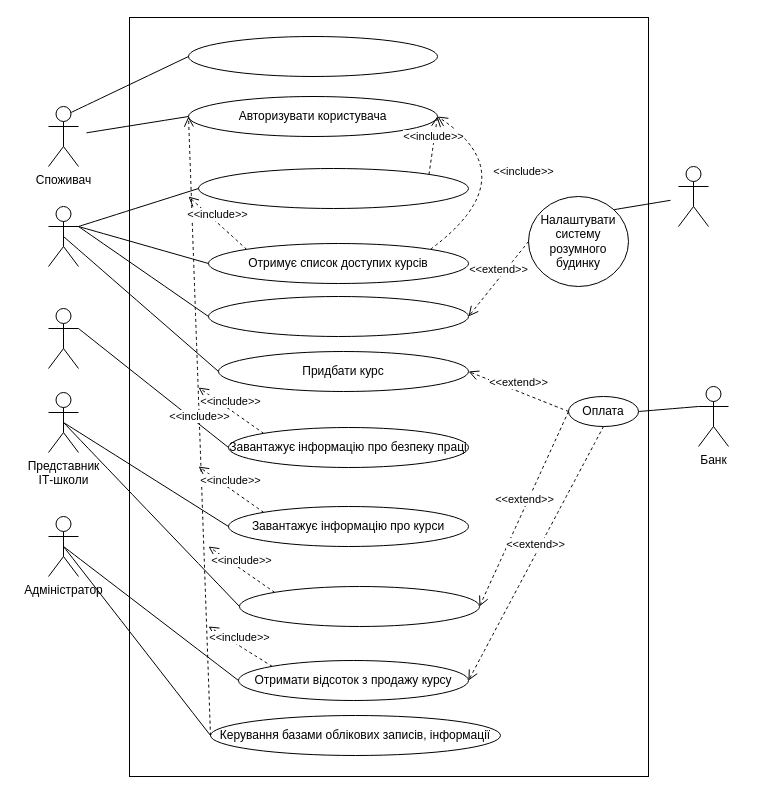
Image size: 763x794. Some labels were removed from this diagram. Each missing label, with the box of its shape:
Керує рівнем вологості в кімнаті: (208, 296, 468, 336)
Користувач: (48, 206, 78, 266)
Отримує кошти від продажу курсів: (238, 586, 480, 626)
Отримує пояснення безпеки праці: (198, 168, 468, 208)
Представник ОП: (48, 308, 78, 368)
Система розумного будинку: (678, 166, 708, 226)
Створити обліковий запис: (188, 36, 438, 76)
